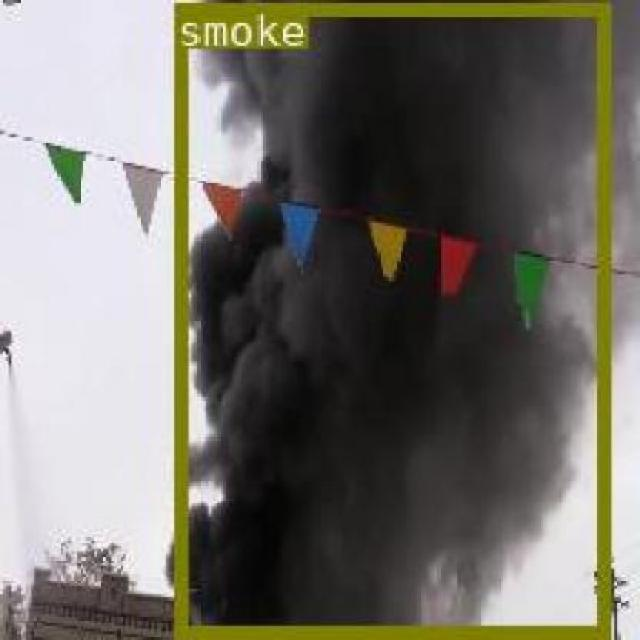Smoke: (172, 1, 606, 634)
